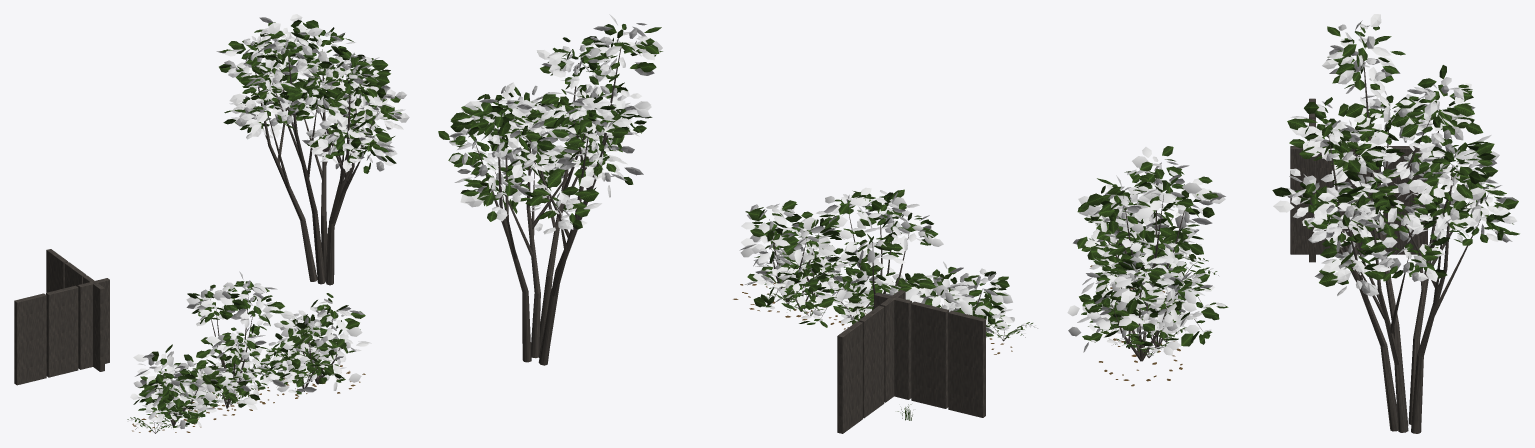
Rendered from SM_Env_Tile_p2_p2.fbx.
3 renders of one model, left to right at view 1: azimuth 30°, elevation 25°; view 2: azimuth 150°, elevation 25°; view 3: azimuth 270°, elevation 25°, orthographic. The views are drawn at different scales.
Parts seen in each view (by area): view 1: SM_Env_Tile_p2_p2; view 2: SM_Env_Tile_p2_p2; view 3: SM_Env_Tile_p2_p2.
Part boxes in pixels (x1,y1,x2,y2): SM_Env_Tile_p2_p2: (14,14,409,433); SM_Env_Tile_p2_p2: (438,14,1037,433); SM_Env_Tile_p2_p2: (1067,14,1519,433).
Size of what is drawn, in the model's own units: 1302 by 969 by 875.
Materials: 7 (3 with a texture image).
